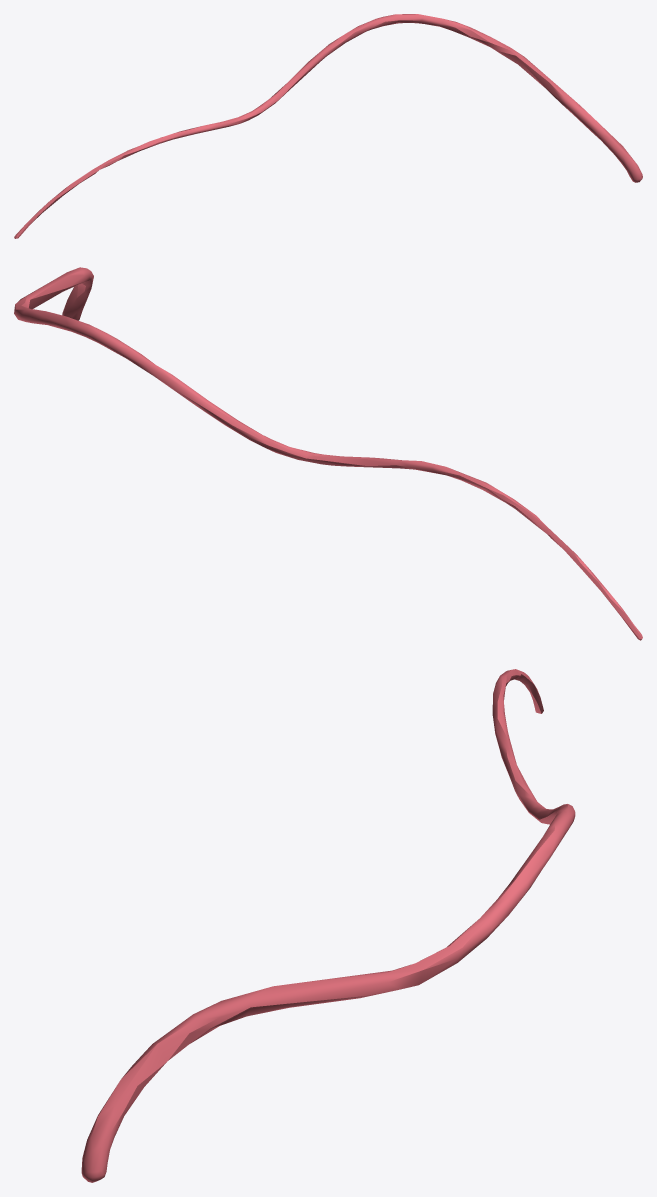
The model's file is fma50357_fj1697.glb.
3 views of the same model, one above another, from view 1: azimuth 30°, elevation 25°; view 2: azimuth 150°, elevation 25°; view 3: azimuth 270°, elevation 25° (orthographic). The views are drawn at different scales.
Parts seen in each view (by area): view 1: FMA50357_FJ1697; view 2: FMA50357_FJ1697; view 3: FMA50357_FJ1697.
Part boxes in pixels (bbox=[...]): FMA50357_FJ1697: bbox=[14, 14, 642, 238]; FMA50357_FJ1697: bbox=[14, 267, 642, 640]; FMA50357_FJ1697: bbox=[81, 669, 575, 1182].
Bounding box in the file's own units: 0.0271 × 0.00644 × 0.0112.
